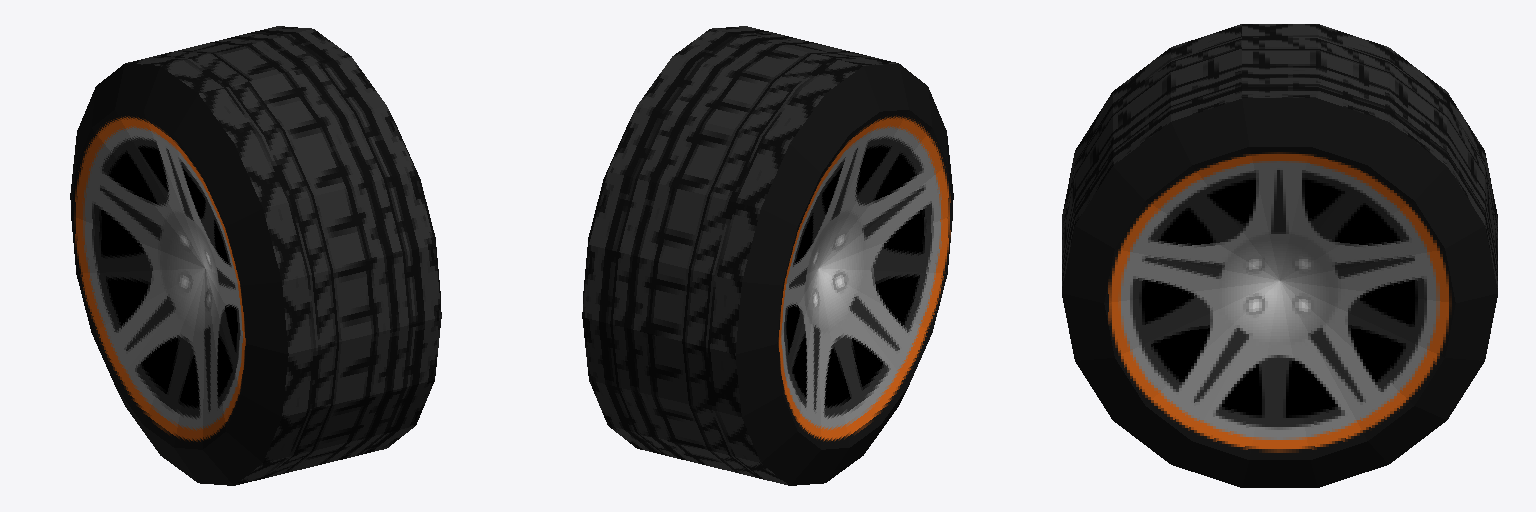
3 views of the same model, side by side, from view 1: azimuth 30°, elevation 25°; view 2: azimuth 150°, elevation 25°; view 3: azimuth 270°, elevation 25° (orthographic).
Visible parts, largest first — view 1: wheel_Cylinder01x; view 2: wheel_Cylinder01x; view 3: wheel_Cylinder01x.
Boxes of the visible parts, x1,y1,x2,y2 form: wheel_Cylinder01x: [70, 26, 441, 485]; wheel_Cylinder01x: [582, 26, 953, 485]; wheel_Cylinder01x: [1062, 24, 1497, 487].
Size of the model in its own units: 30.68 by 58.78 by 59.69.
Materials: 1 (1 with a texture image).